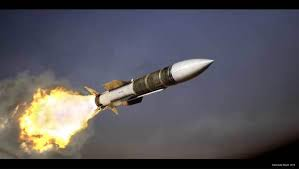ten_lua: (55, 54, 218, 118)
